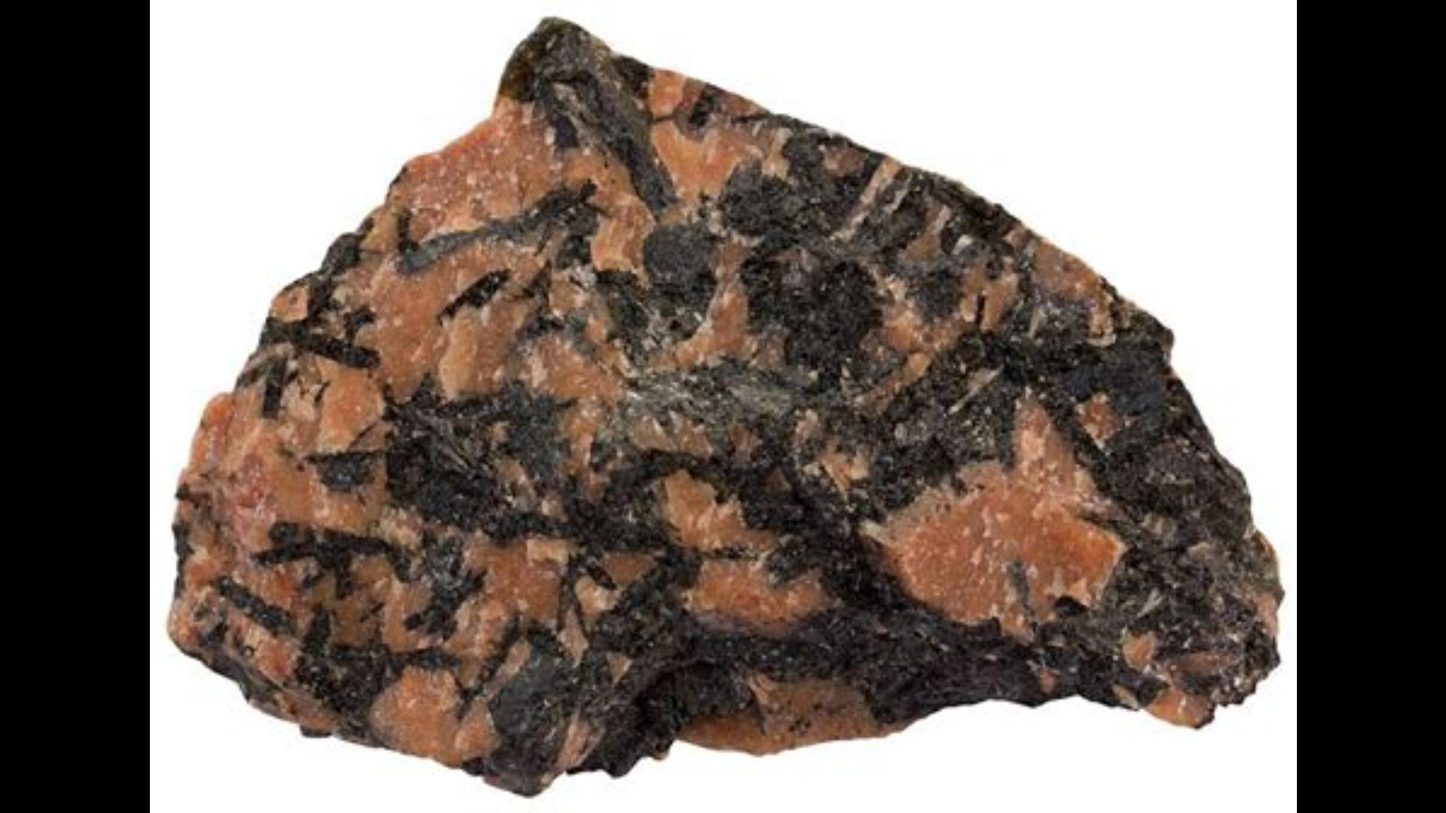rock: (176, 19, 1275, 794)
